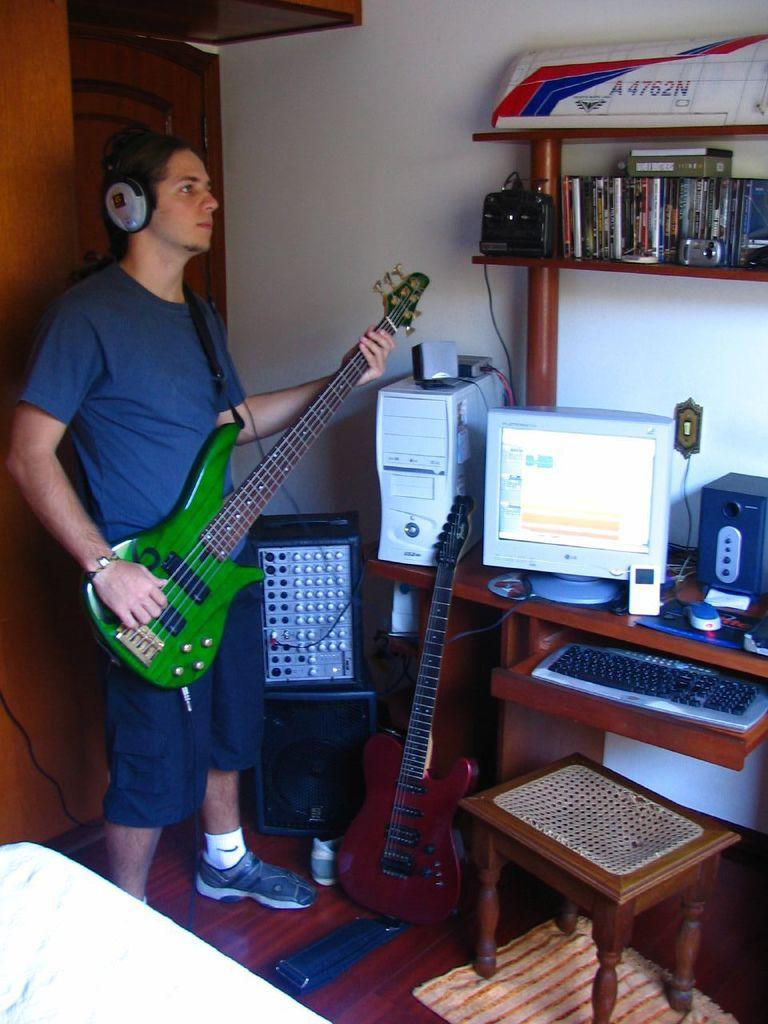Computer-keyboard: (531, 645, 767, 730)
